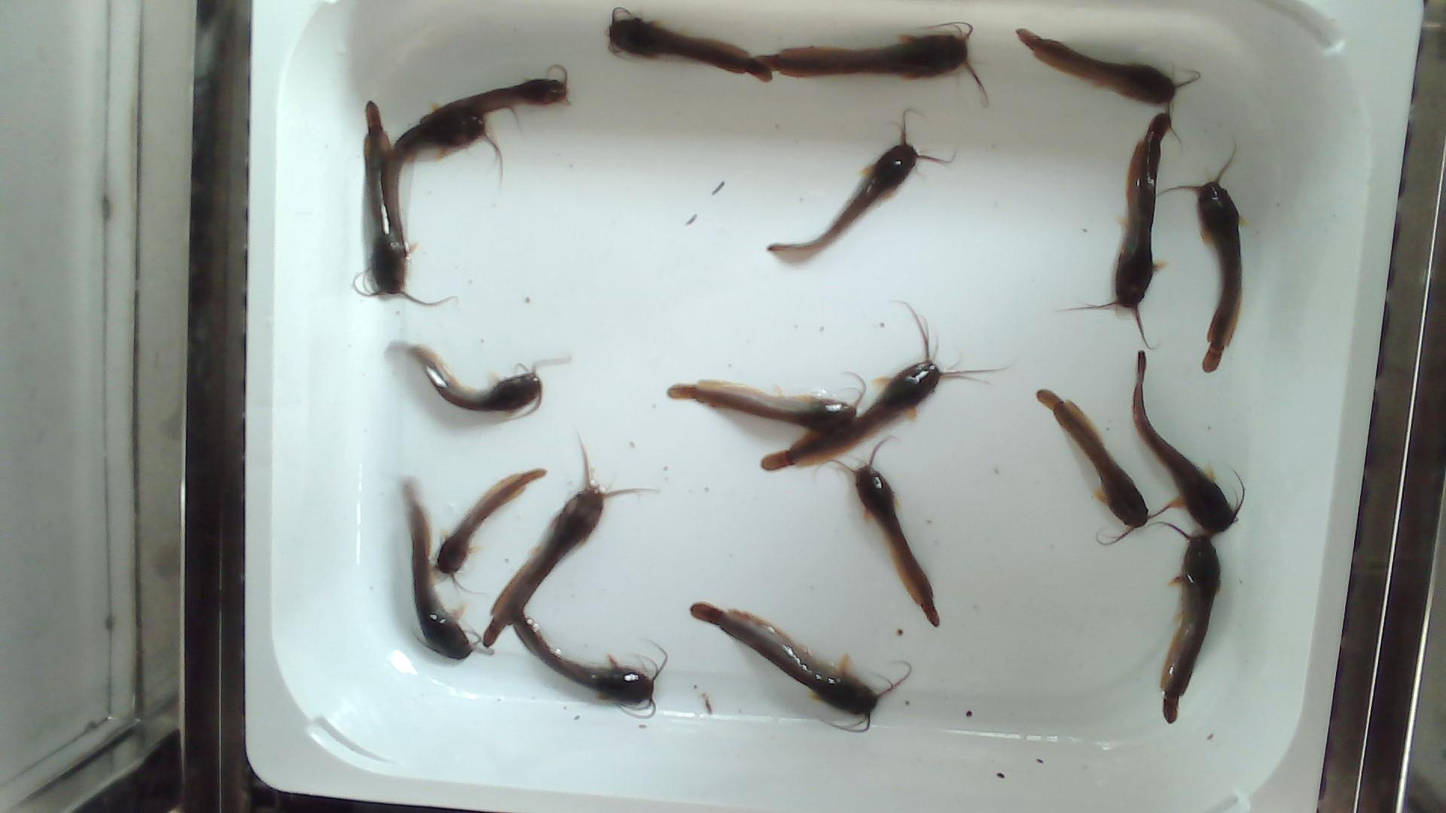lele: (763, 302, 1005, 465), (486, 436, 656, 646), (691, 601, 917, 736), (773, 114, 958, 250), (1063, 113, 1164, 353), (755, 19, 995, 105), (832, 440, 940, 623), (1159, 151, 1246, 370), (383, 108, 508, 258), (1038, 389, 1152, 546), (1133, 350, 1232, 528), (514, 616, 672, 717), (358, 99, 427, 308), (1018, 29, 1207, 102), (406, 482, 475, 659), (437, 471, 542, 574), (1165, 532, 1221, 720), (391, 343, 538, 413), (610, 21, 771, 84), (667, 381, 868, 430), (425, 82, 570, 117)
